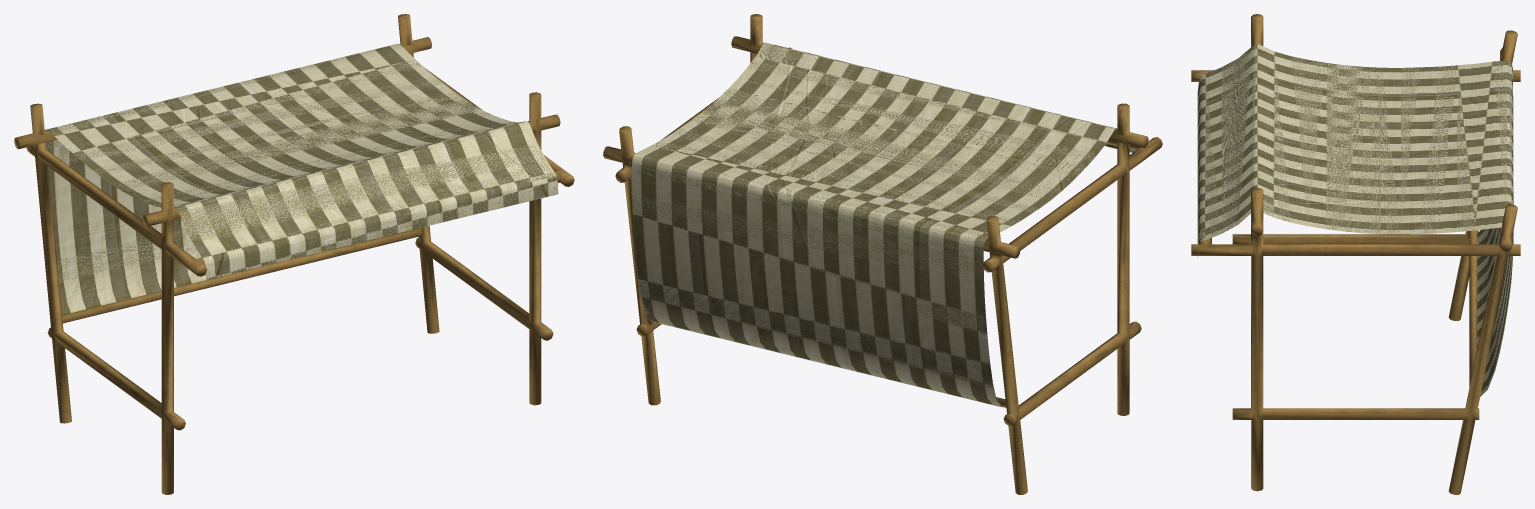
The model's file is boothstickspart.fbx.
3 renders of one model, left to right at view 1: azimuth 30°, elevation 25°; view 2: azimuth 150°, elevation 25°; view 3: azimuth 270°, elevation 25°, orthographic. The views are drawn at different scales.
Visible parts, largest first — view 1: U3DMesh; view 2: U3DMesh; view 3: U3DMesh.
Part boxes in pixels (x1,y1,x2,y2): U3DMesh: (14, 14, 574, 494); U3DMesh: (603, 14, 1162, 494); U3DMesh: (1191, 14, 1520, 494).
Size of the model in its own units: 5.6 by 4.06 by 4.
Materials: 2 (2 with a texture image).
